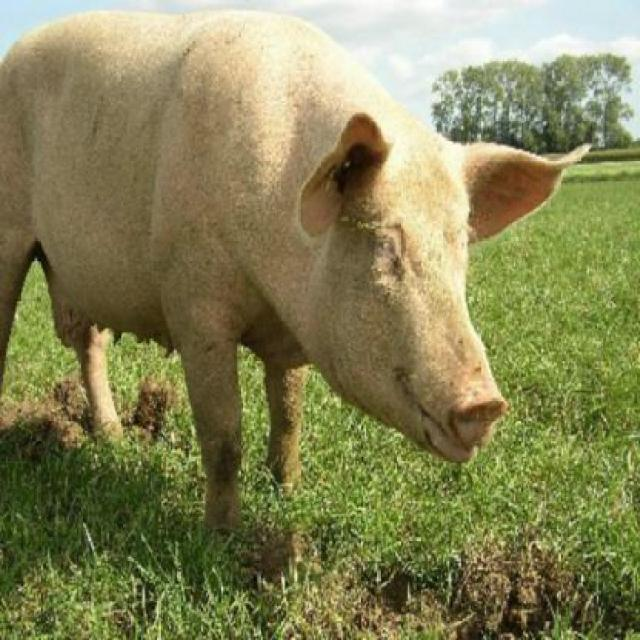Boar: (2, 6, 596, 540)
